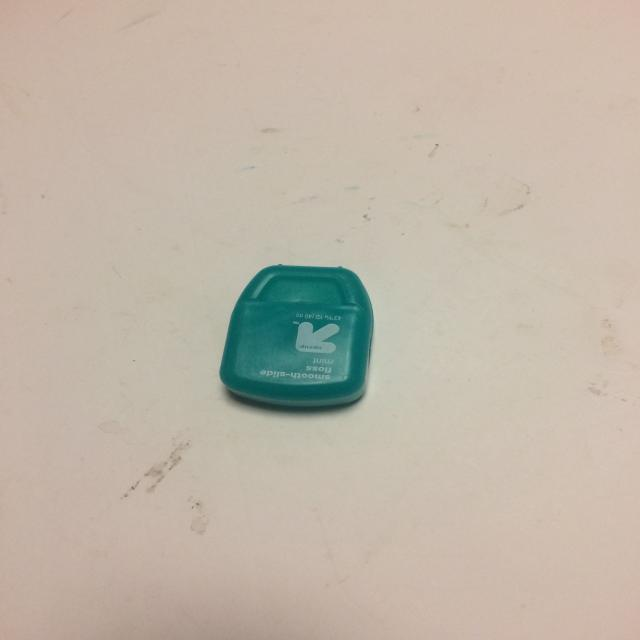trash: (218, 263, 374, 408)
